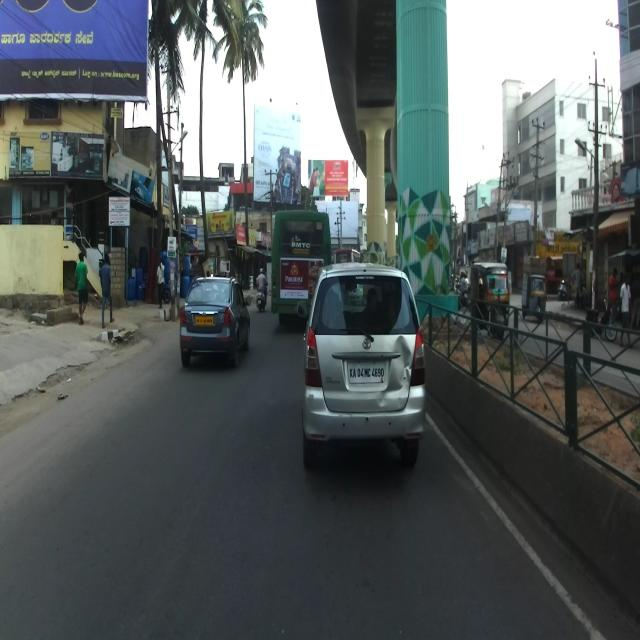autorickshaw: (470, 260, 512, 332)
bus: (269, 208, 334, 318)
car: (296, 258, 428, 471), (178, 274, 251, 368)
motorcycle: (586, 299, 617, 344)
